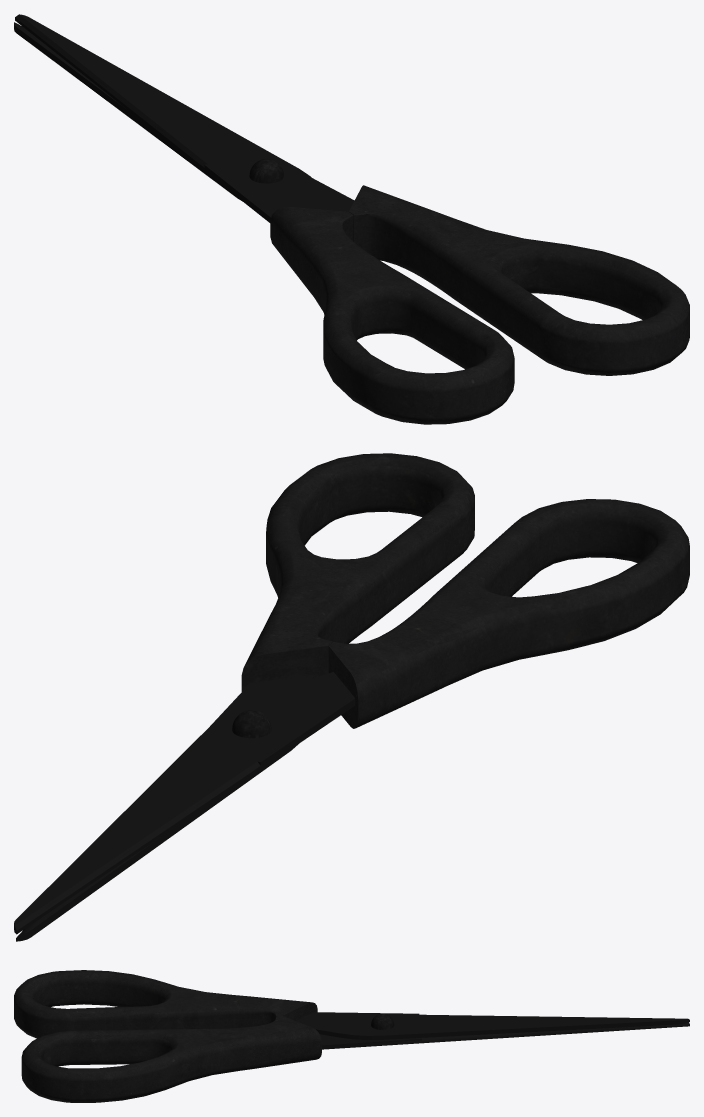
3 renders of one model, top to bottom at view 1: azimuth 30°, elevation 25°; view 2: azimuth 150°, elevation 25°; view 3: azimuth 270°, elevation 25°, orthographic. The views are drawn at different scales.
Visible parts, largest first — view 1: Geode; view 2: Geode; view 3: Geode.
Boxes of the visible parts, x1,y1,x2,y2 form: Geode: [14, 14, 689, 424]; Geode: [14, 453, 689, 941]; Geode: [14, 970, 689, 1102].
Size of the model in its own units: 4.26 by 0.5906 by 11.4.
Materials: 1 (1 with a texture image).
